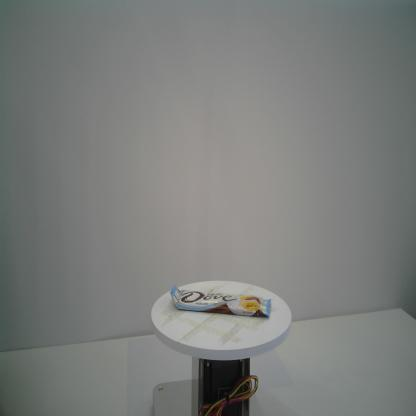Chocolate: (168, 284, 272, 318)
